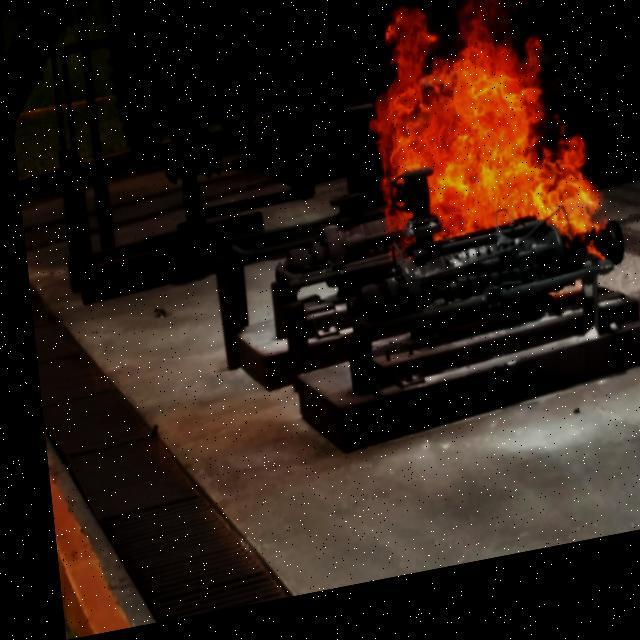Fire: (356, 0, 612, 314)
